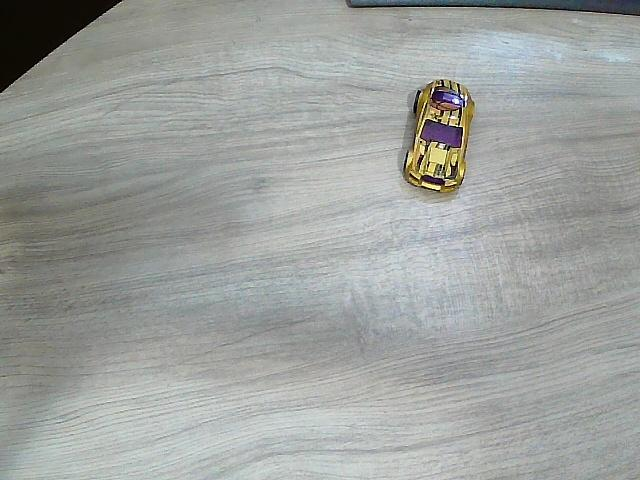Carro: (405, 79, 474, 193)
